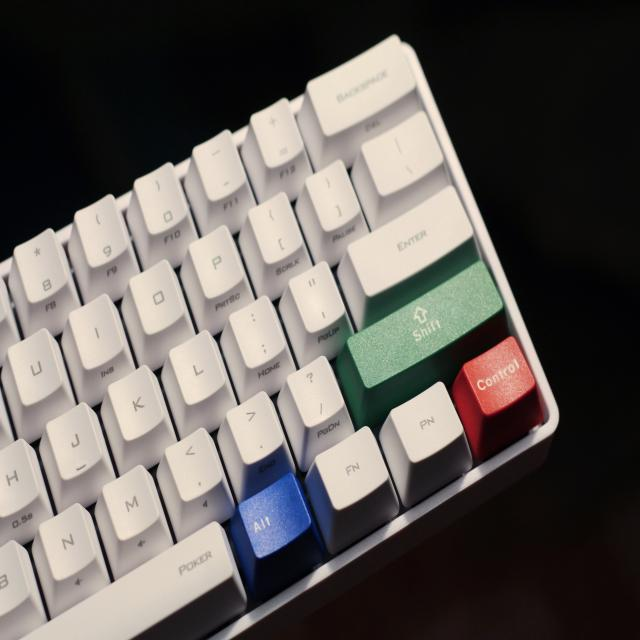Plastic: (5, 16, 615, 640)
